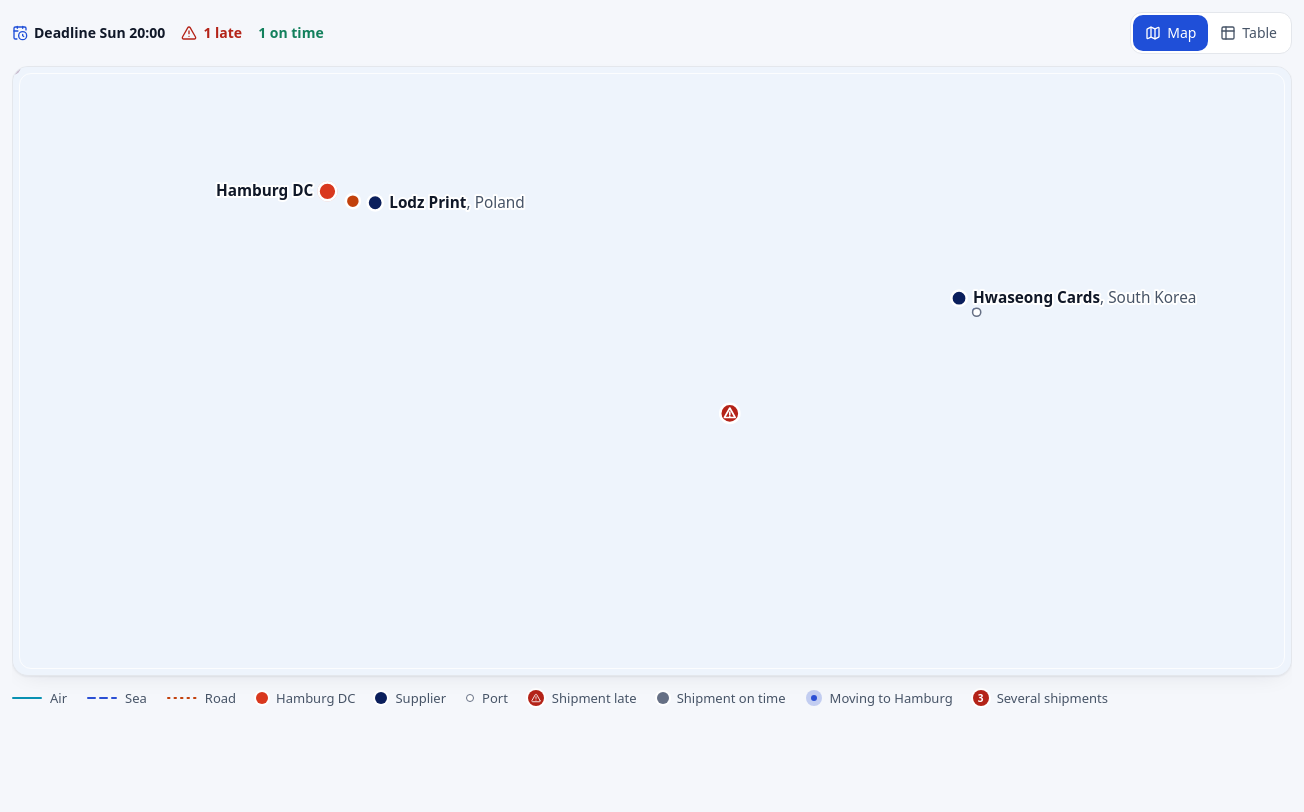
Scenario: TransportMap › selecting a supplier shows its lane with est. costs and no feasible badge when infeasible
Press Enter in the field labelled "Hwaseong Cards, South Korea", box [939,278,980,319]
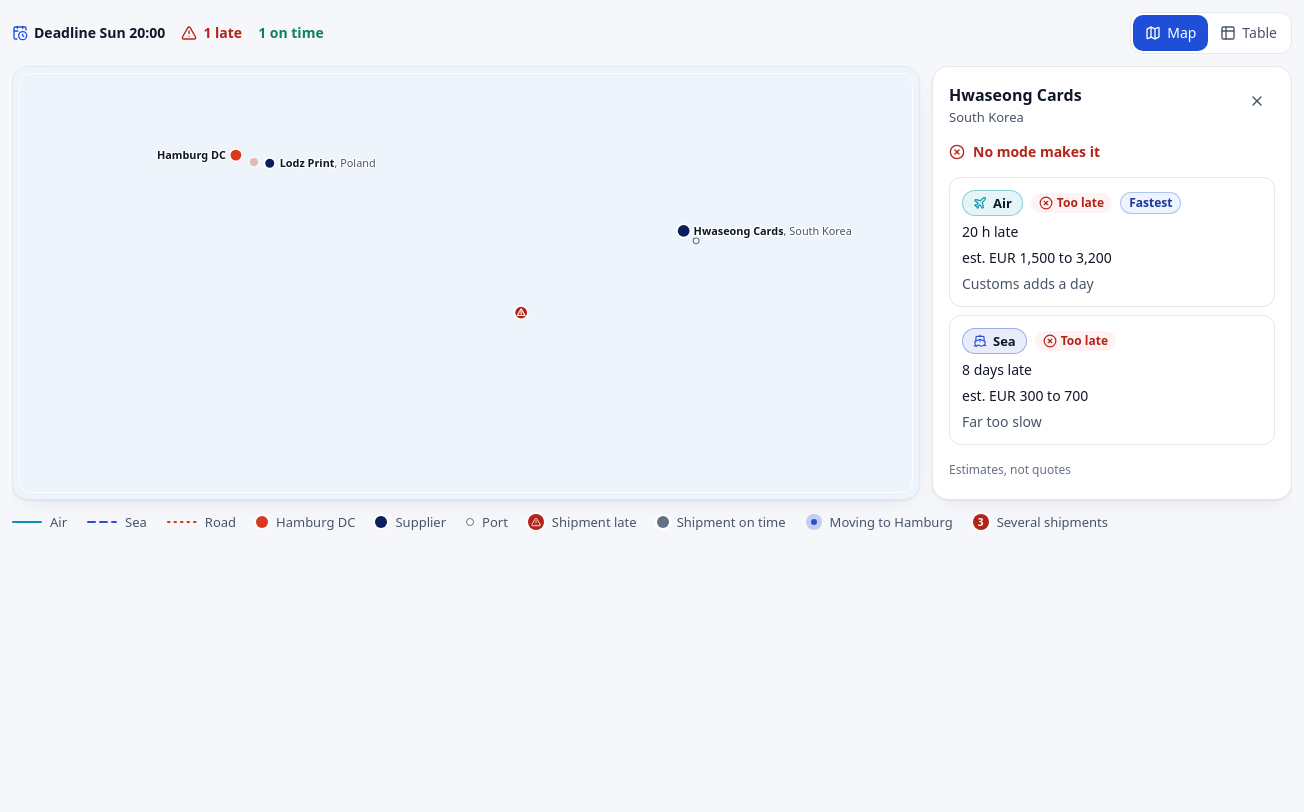
Now the number of list items with test id "map-lane-mode" is 2, box [949,177,1275,307]; [949,315,1275,445]
Now the text "est. EUR 1,500 to 3,200" is shown, box [962,248,1112,267]
Now the text "Too late" is shown 2 times, box [1031,193,1112,213]; [1035,331,1116,351]
Click the button named "Close supplier panel". click: (1257, 101)
box: [1239,83,1275,119]
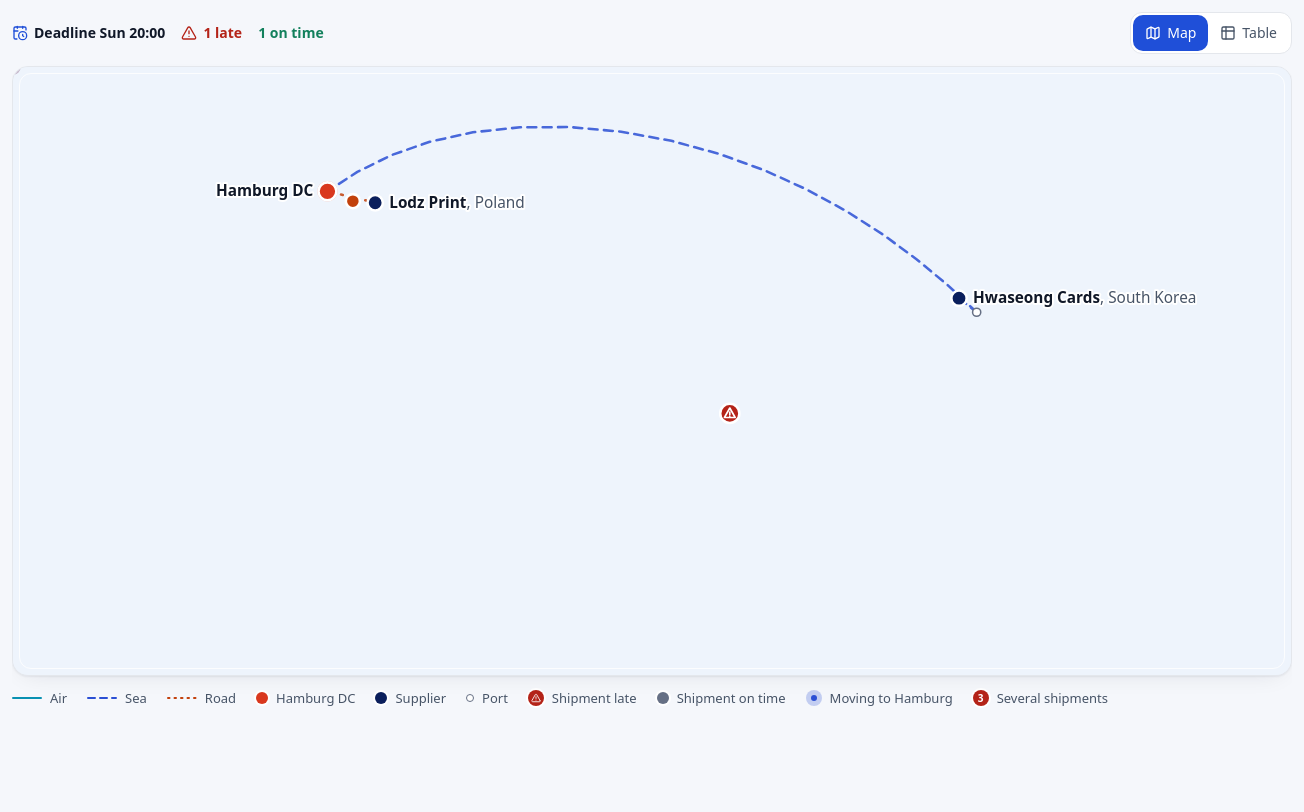
Now the element with test id "map-panel" is gone
